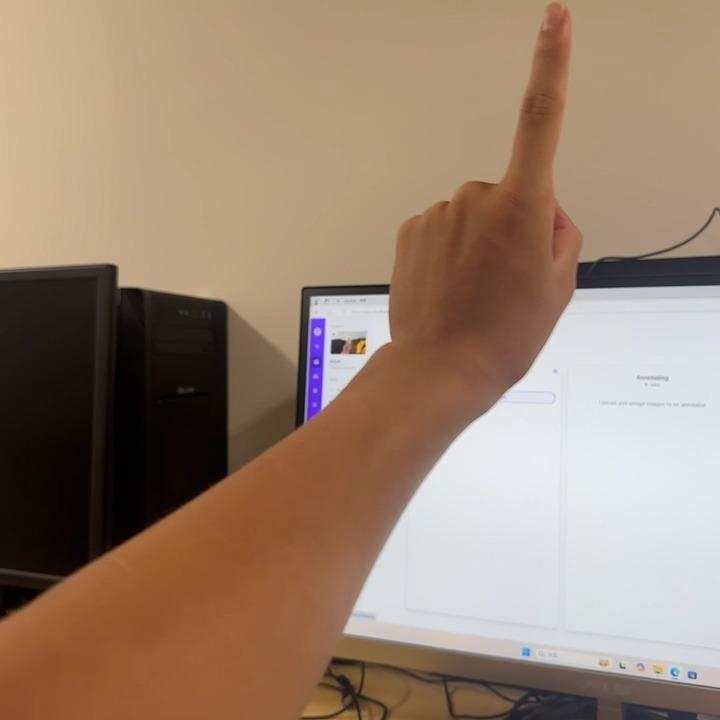without_gloves: (301, 19, 663, 384)
